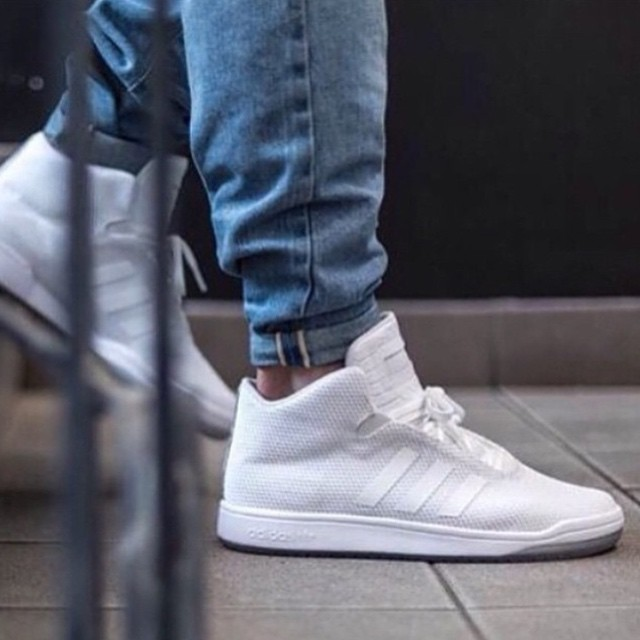sneaker: (195, 282, 638, 574), (1, 108, 247, 455)
